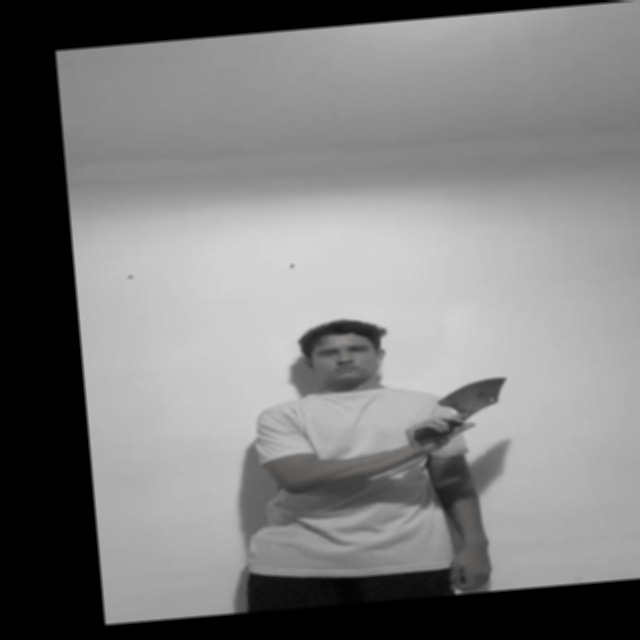Sharp-Object: (433, 373, 508, 415)
